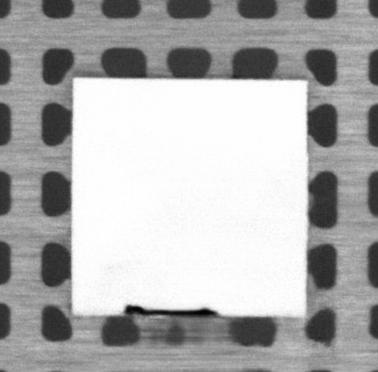DIE_BROKEN: (121, 302, 222, 317)
